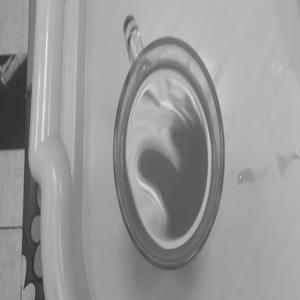coffee: (106, 31, 236, 274)
